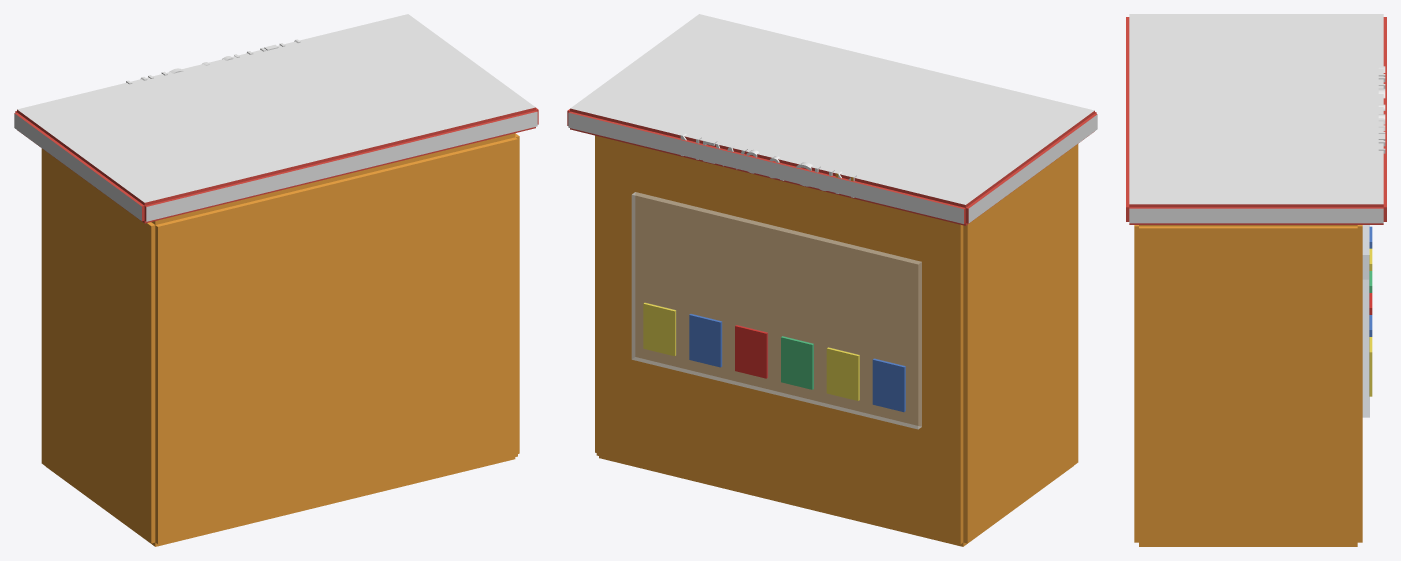
File: newsstand.glb
The picture shows the model from 3 angles, left to right: view 1: azimuth 30°, elevation 25°; view 2: azimuth 150°, elevation 25°; view 3: azimuth 270°, elevation 25°; orthographic projection.
Parts seen in each view (by area): view 1: newsstand; view 2: newsstand; view 3: newsstand.
Boxes of the visible parts, left/top/right/bottom form: newsstand: left=14, top=14, right=538, bottom=546; newsstand: left=567, top=14, right=1097, bottom=546; newsstand: left=1126, top=14, right=1386, bottom=546.
Bounding box in the file's own units: 2.8 × 2.38 × 1.6.
